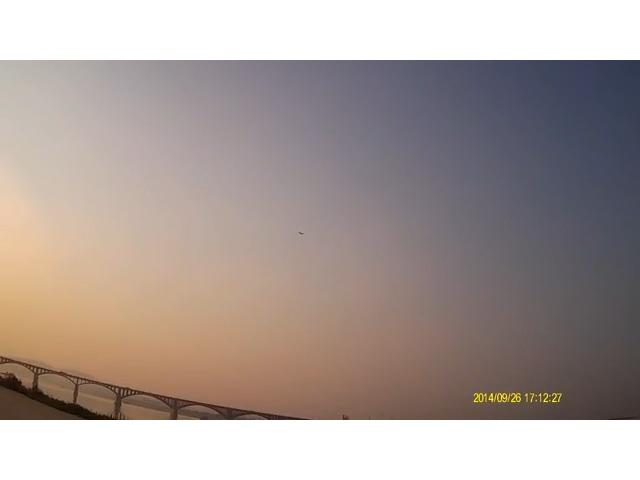Anti-Drone: (287, 226, 315, 242)
